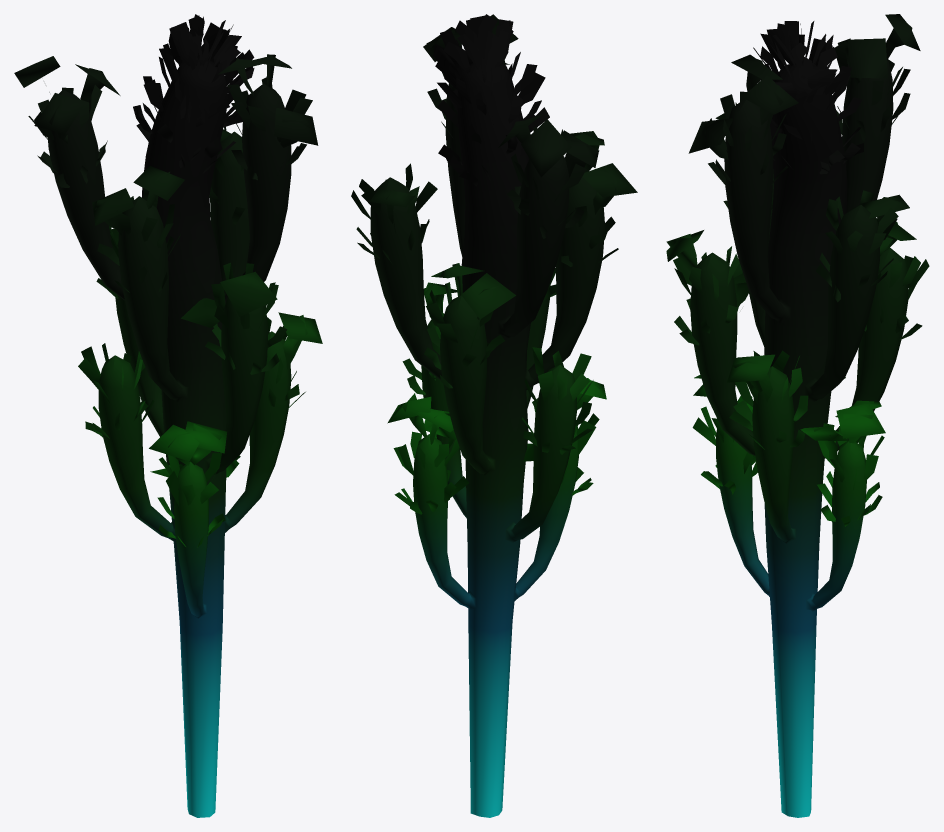
Rendered from Saguaro4.fbx.
The picture shows the model from 3 angles, left to right: view 1: azimuth 30°, elevation 25°; view 2: azimuth 150°, elevation 25°; view 3: azimuth 270°, elevation 25°; orthographic projection.
Visible parts, largest first — view 1: Saguaro4_LOD0; view 2: Saguaro4_LOD0; view 3: Saguaro4_LOD0.
Boxes of the visible parts, x1,y1,x2,y2 form: Saguaro4_LOD0: [14, 14, 322, 817]; Saguaro4_LOD0: [351, 14, 637, 817]; Saguaro4_LOD0: [666, 14, 929, 817].
Size of what is drawn, in the model's own units: 222 by 706 by 214.
